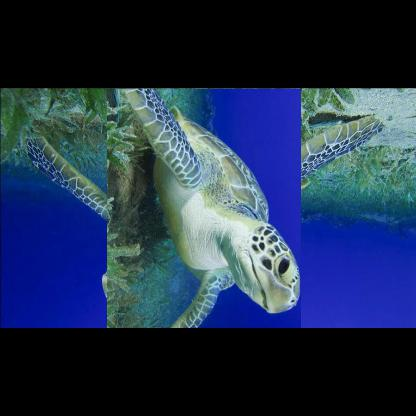turtle: (64, 88, 342, 326)
